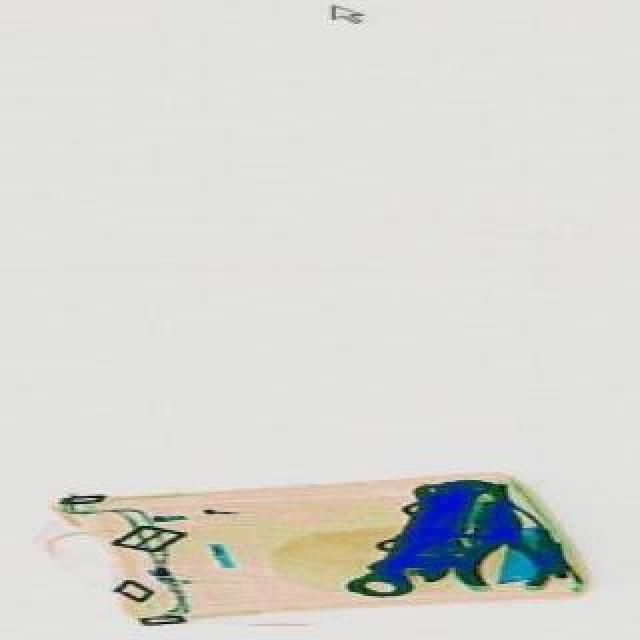scissors: (338, 454, 482, 618)
wrench: (446, 498, 544, 594)
